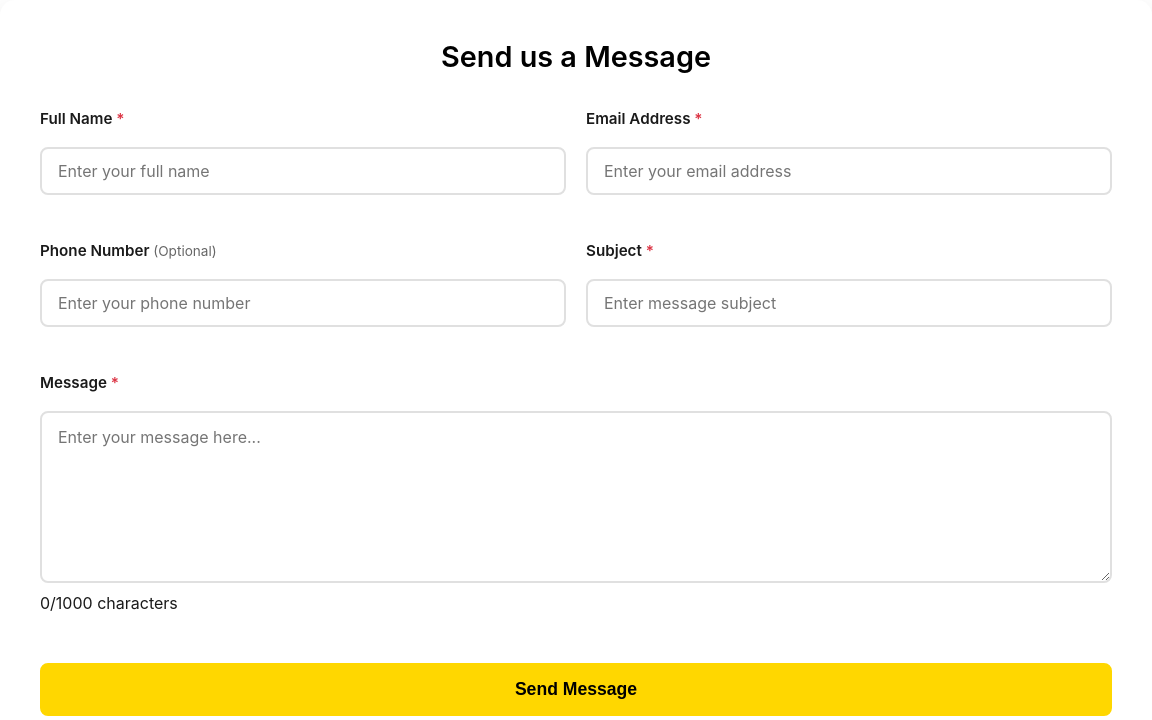
Test: ContactForm › submits form successfully without phone number
The image size is (1152, 720).
# Fill out the form without phone
Step 1. Type "Jane Doe" into the field labelled "Full Name *" → point(303, 171), box [40,147,566,195]
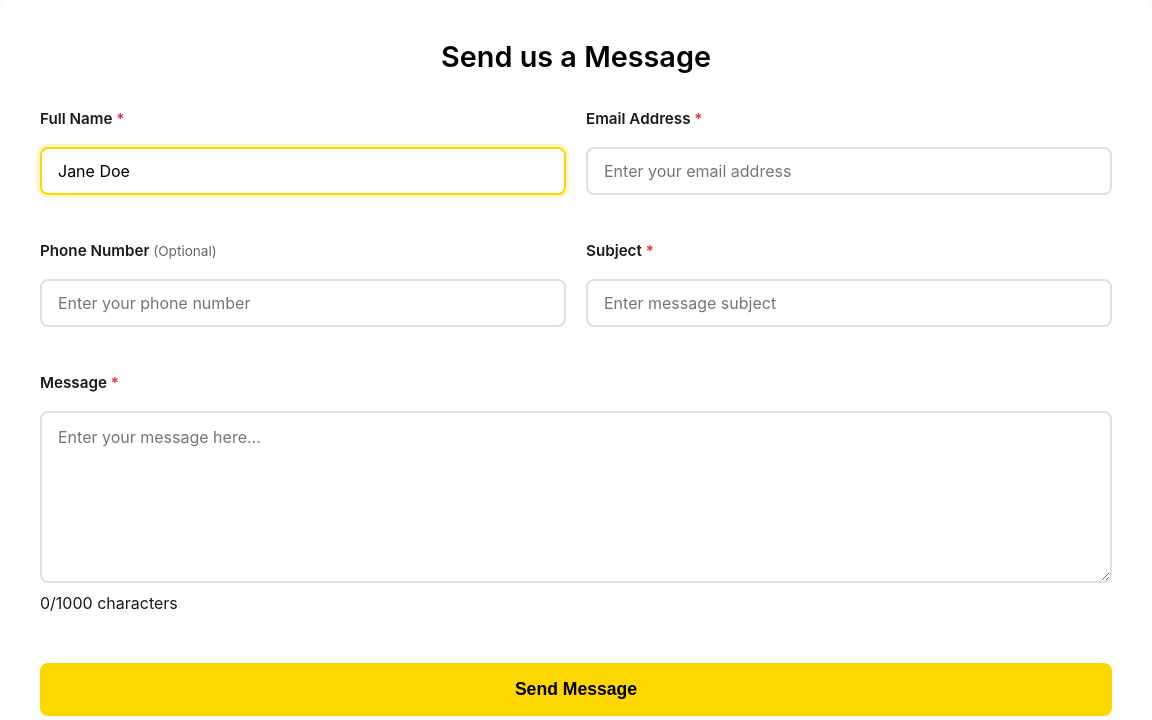
Step 2. Type "jane@example.com" into the field labelled "Email Address *" → point(849, 171), box [586,147,1112,195]
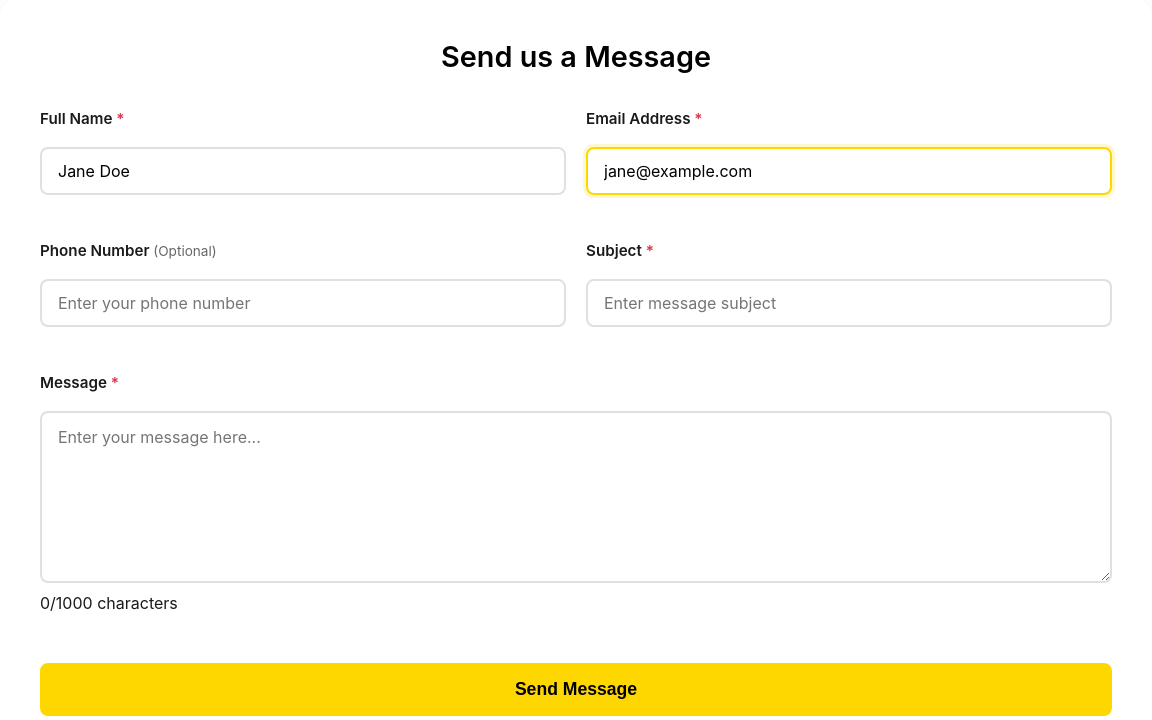
Step 3. Type "Test Subject" into the field labelled "Subject *" → point(849, 303), box [586,279,1112,327]
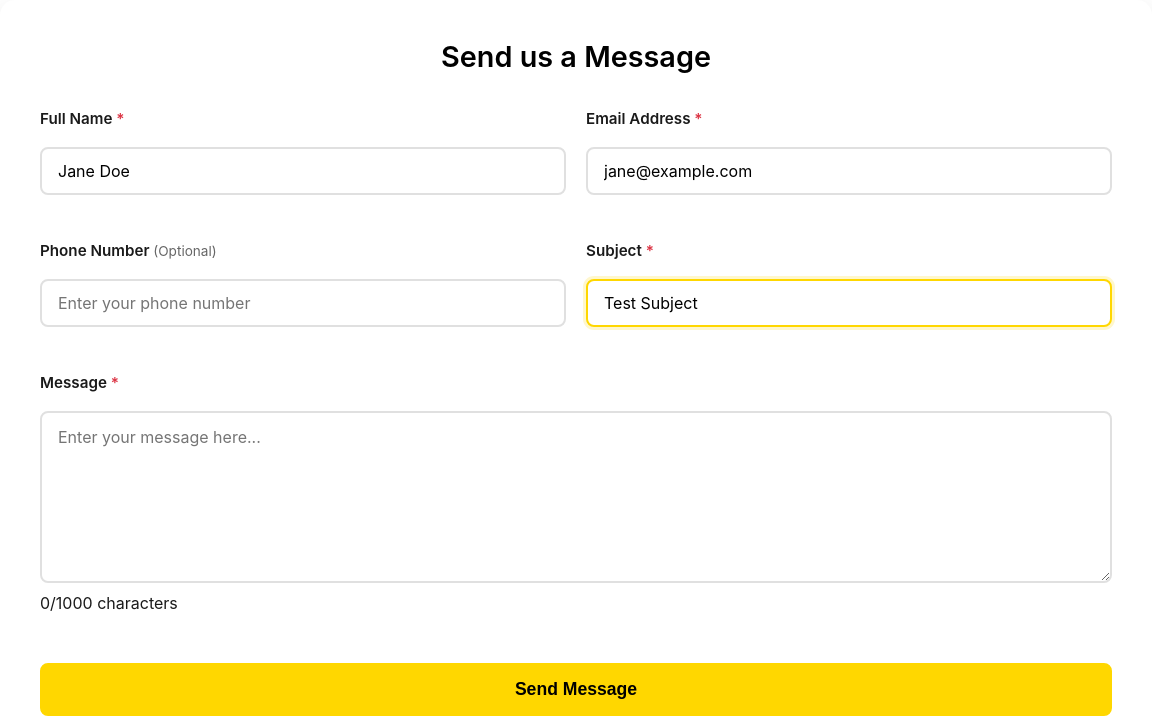
Step 4. Type "This is a test message without phone." into the text box labelled "Message *" → point(576, 498), box [40,412,1112,584]
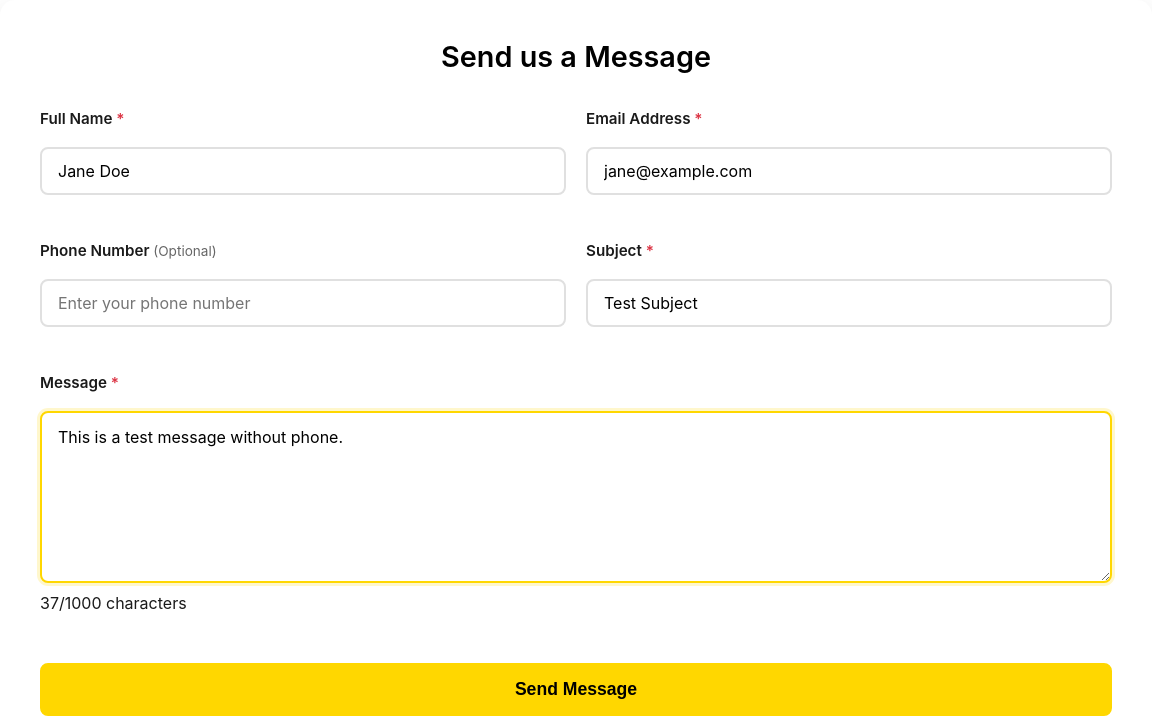
Step 5. Click the button "Send Message" → point(576, 690), box [40,663,1112,716]
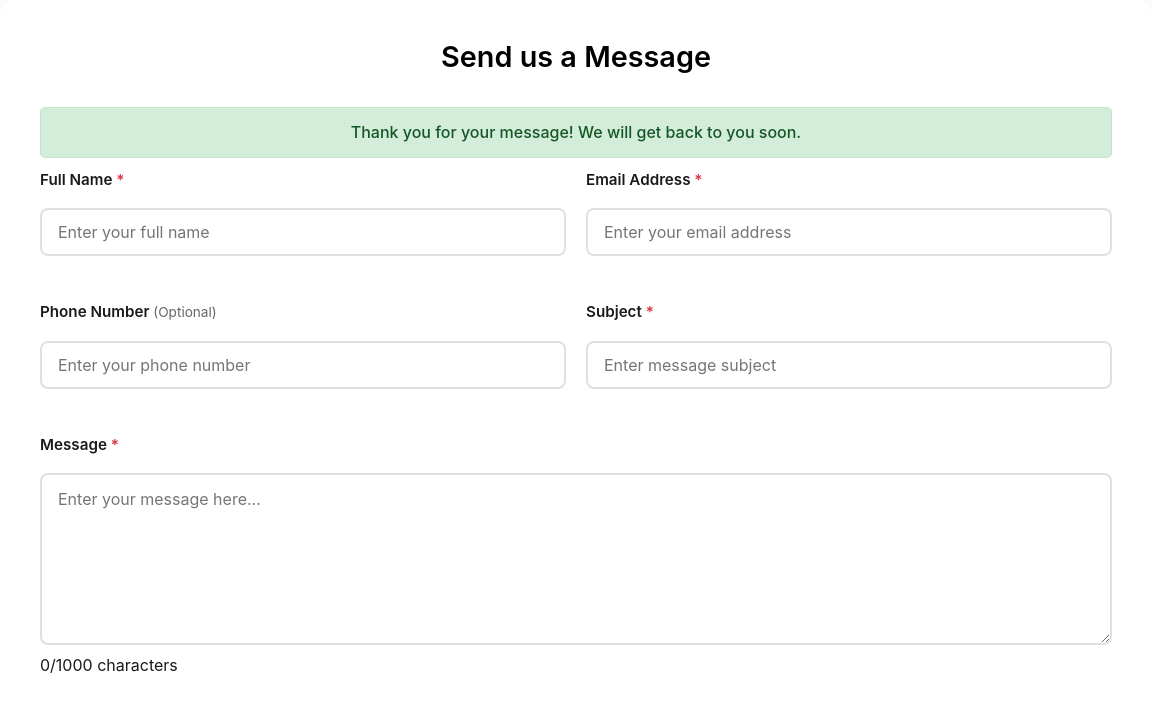
Expected: the text "Thank you for your message! We will get back to you soon." is shown, [40,106,1112,158]
